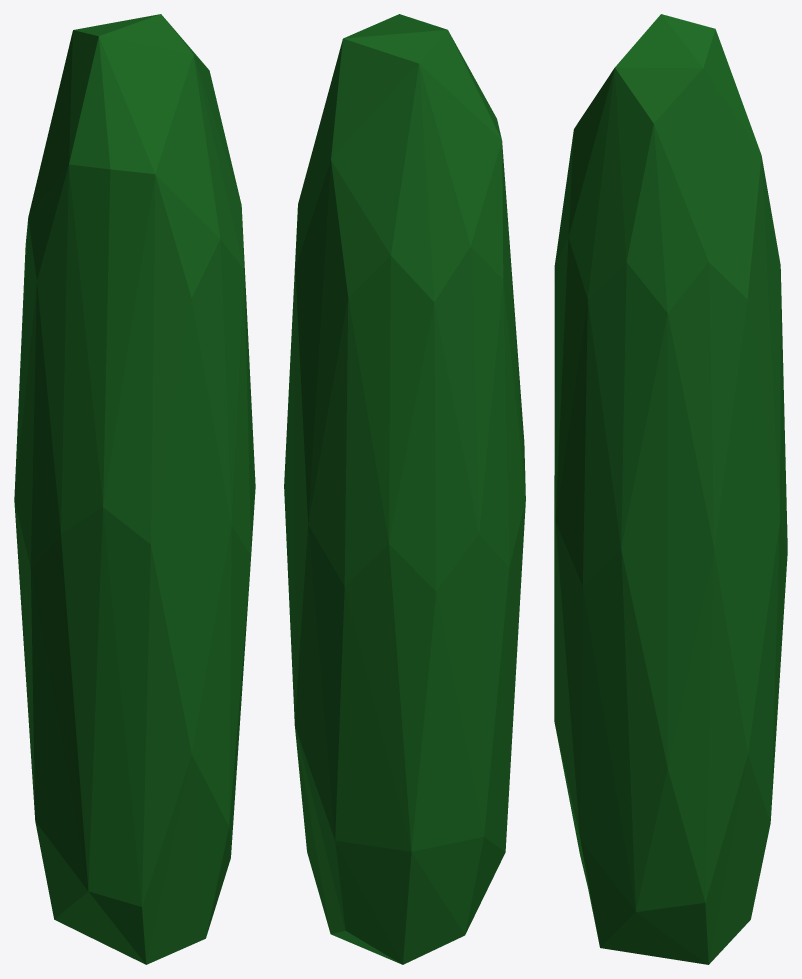
The model's file is Cucumber_0.fbx.
The picture shows the model from 3 angles, left to right: view 1: azimuth 30°, elevation 25°; view 2: azimuth 150°, elevation 25°; view 3: azimuth 270°, elevation 25°; orthographic projection.
Visible parts, largest first — view 1: Cylinder.011; view 2: Cylinder.011; view 3: Cylinder.011.
Boxes of the visible parts, x1,y1,x2,y2 form: Cylinder.011: (14, 14, 255, 964); Cylinder.011: (284, 14, 525, 964); Cylinder.011: (554, 14, 787, 964).
Bounding box in the file's own units: 146 × 624 × 146.
